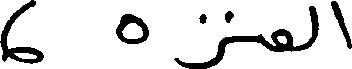X: (176, 9, 225, 68), (0, 0, 41, 68), (117, 9, 147, 48), (333, 0, 351, 53), (272, 24, 290, 56), (309, 1, 317, 51), (253, 29, 263, 50)
